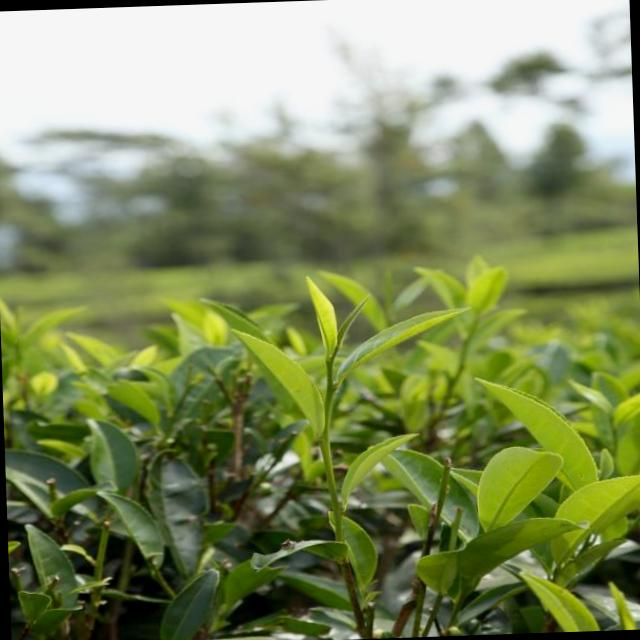Stem: (328, 383, 337, 396)
